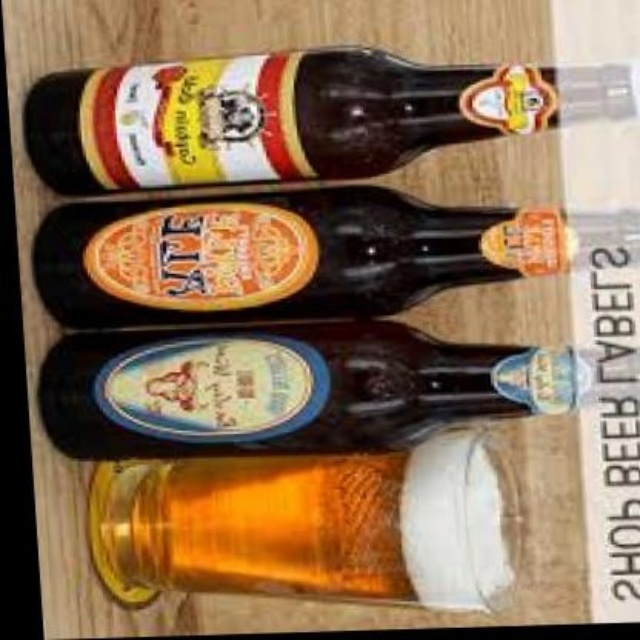trash: (88, 415, 580, 611), (25, 49, 555, 192), (34, 185, 562, 326), (40, 320, 531, 458)
